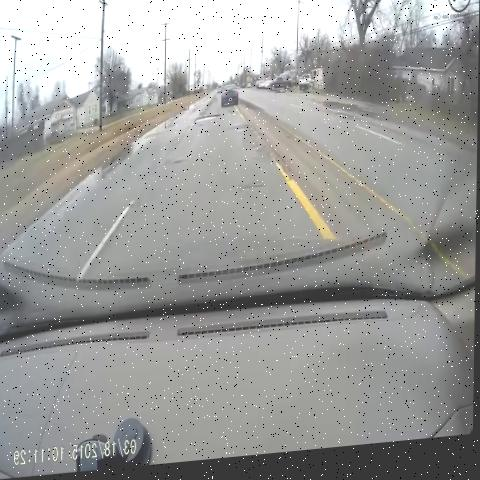pothole: (239, 177, 266, 210), (170, 156, 190, 173)
